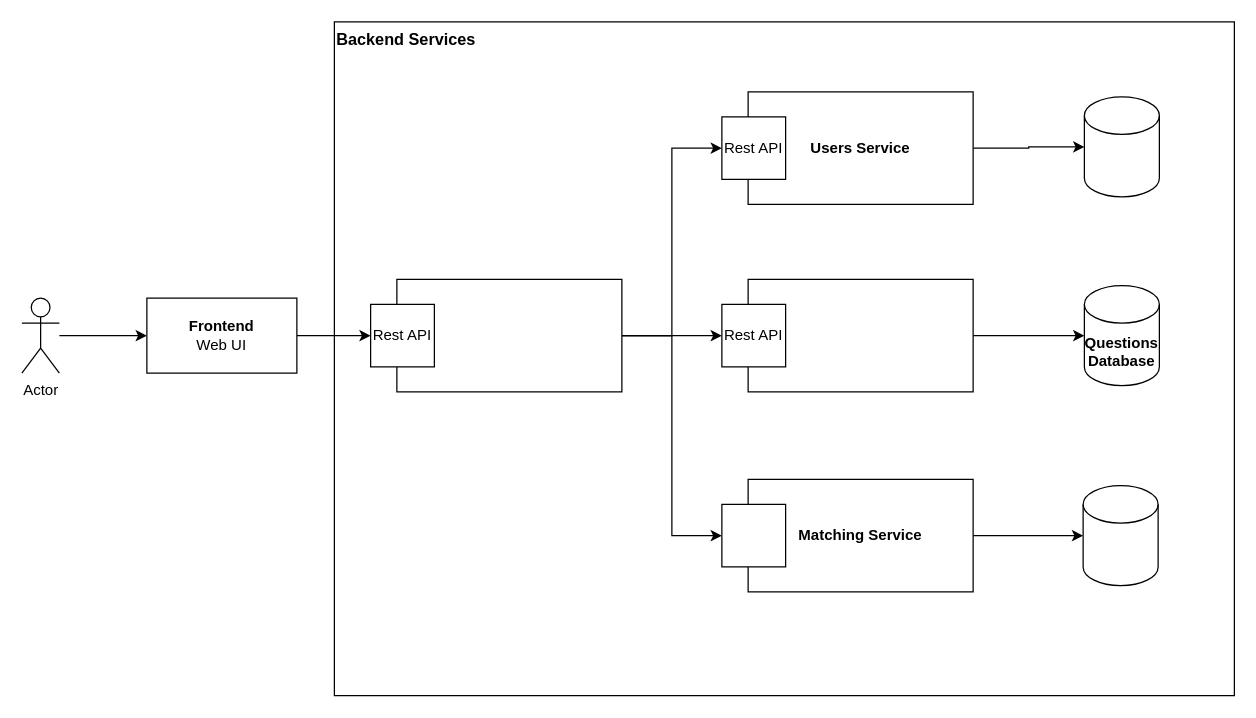
The diagram is 1256 pixels wide and 718 high, and some of its shapes have lost their labels. Here are the shapes that lost their labels. From the top down, the box of each, then its label:
(1083, 96, 1159, 197): Users Database
(396, 278, 622, 392): API Gateway
(747, 278, 973, 392): Questions Service
(721, 503, 786, 567): Web Socket
(1082, 484, 1158, 586): RMQ Server
